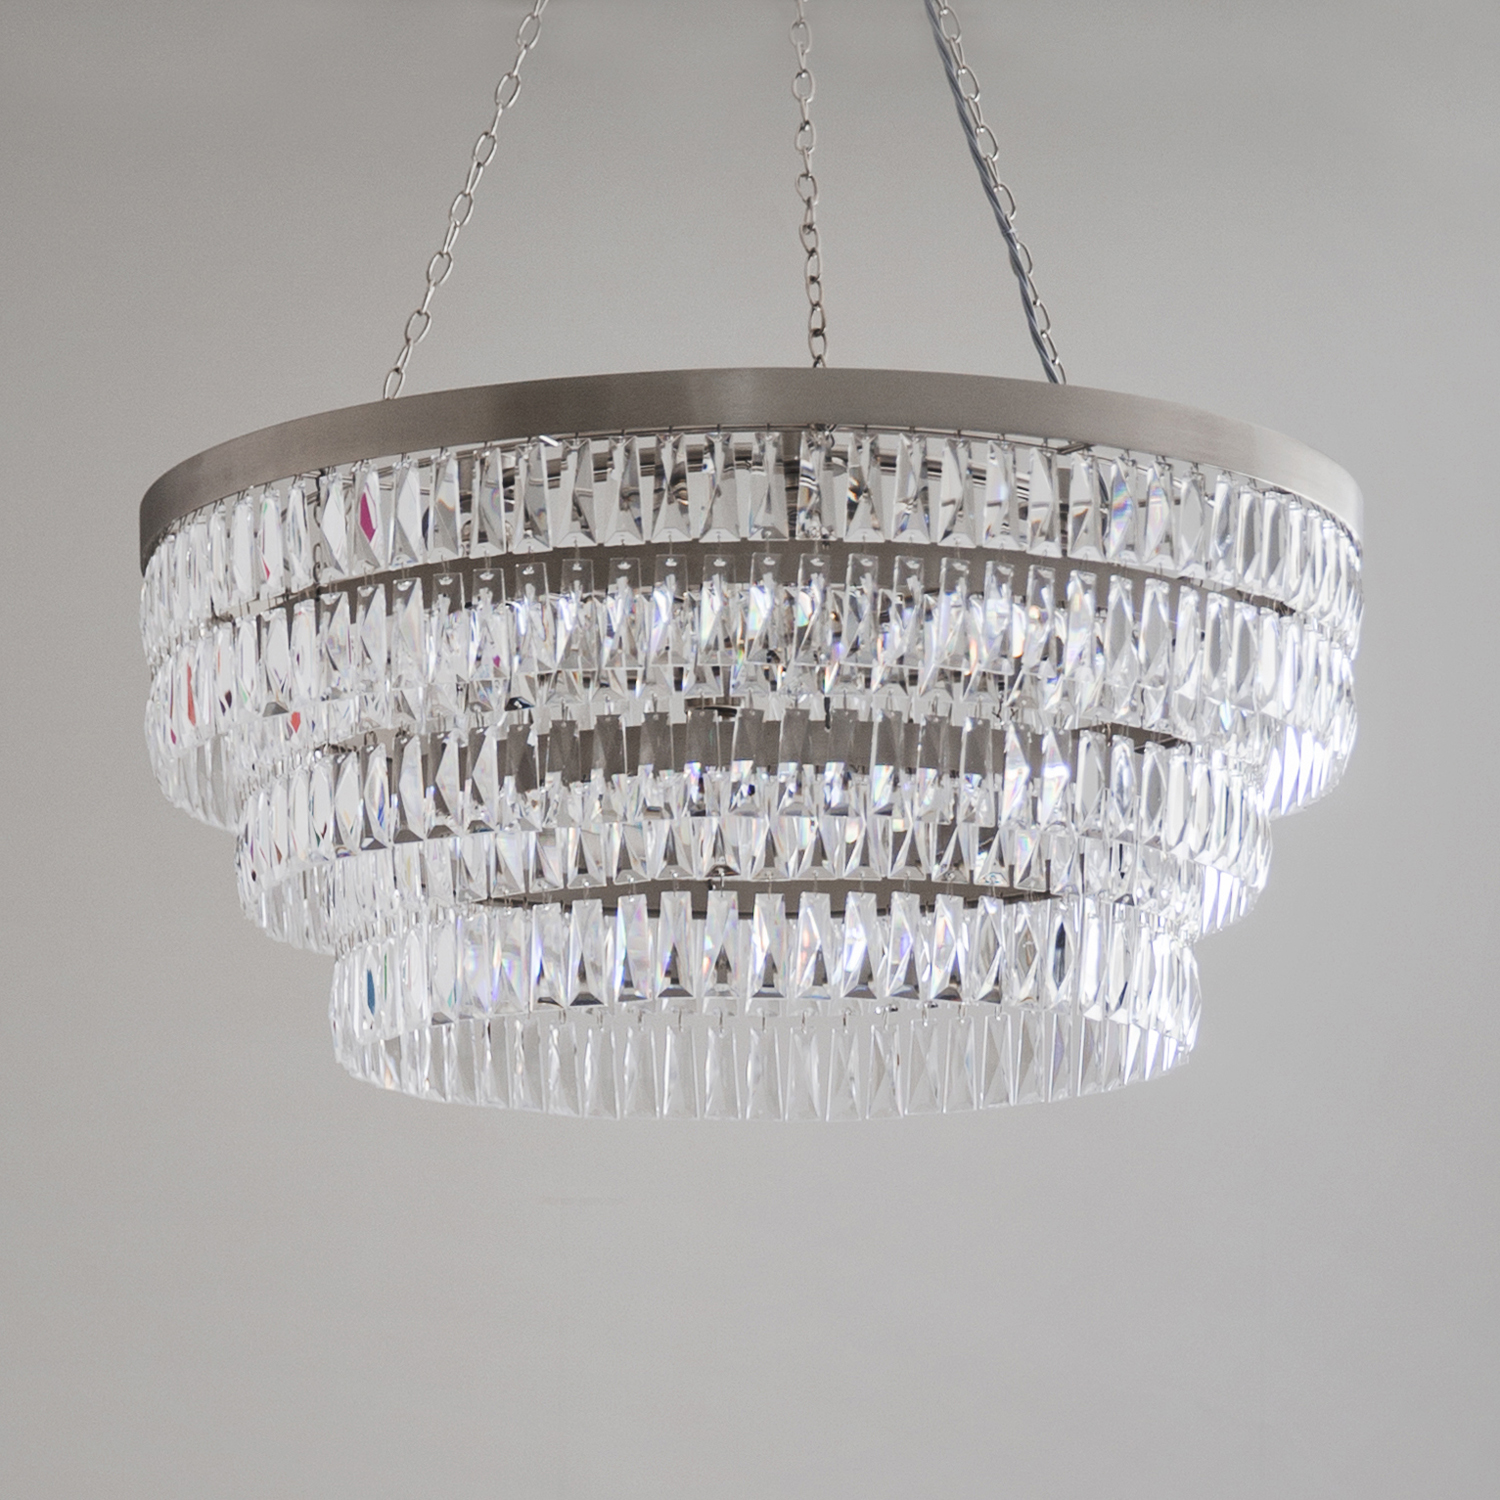chandelier: (67, 3, 1400, 1150)
